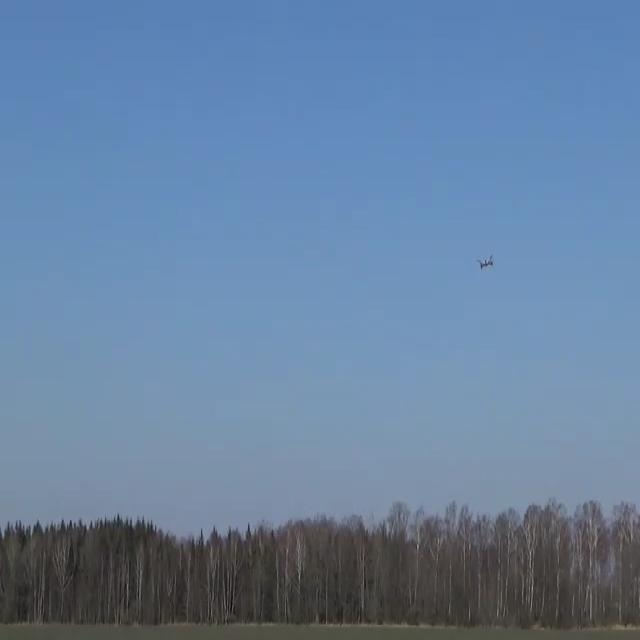Drone: (473, 250, 499, 274)
